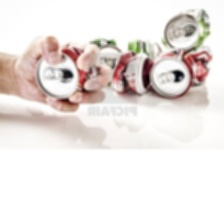can: (32, 44, 100, 103), (148, 42, 217, 99), (160, 5, 214, 50), (110, 50, 155, 95), (80, 34, 122, 77), (123, 36, 165, 62)
